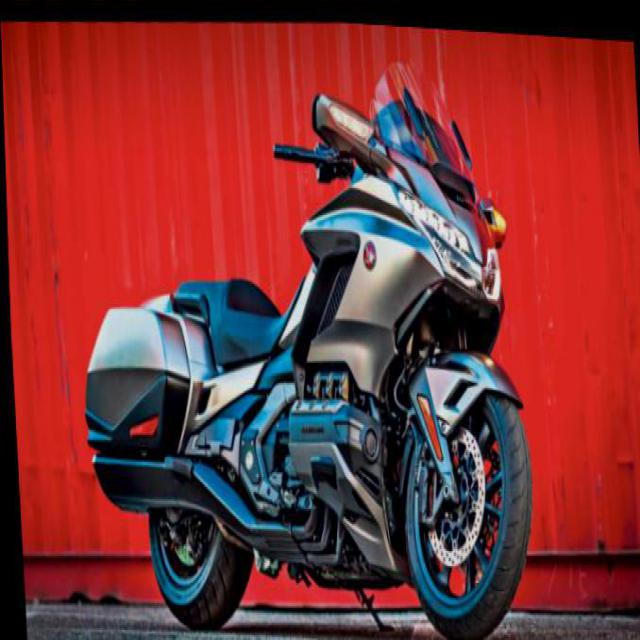Gold Wing: (66, 27, 540, 638)
